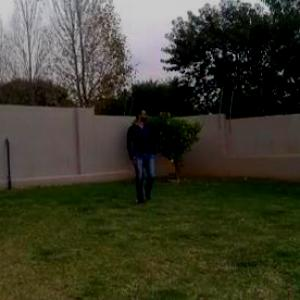follow: (132, 106, 158, 206)
